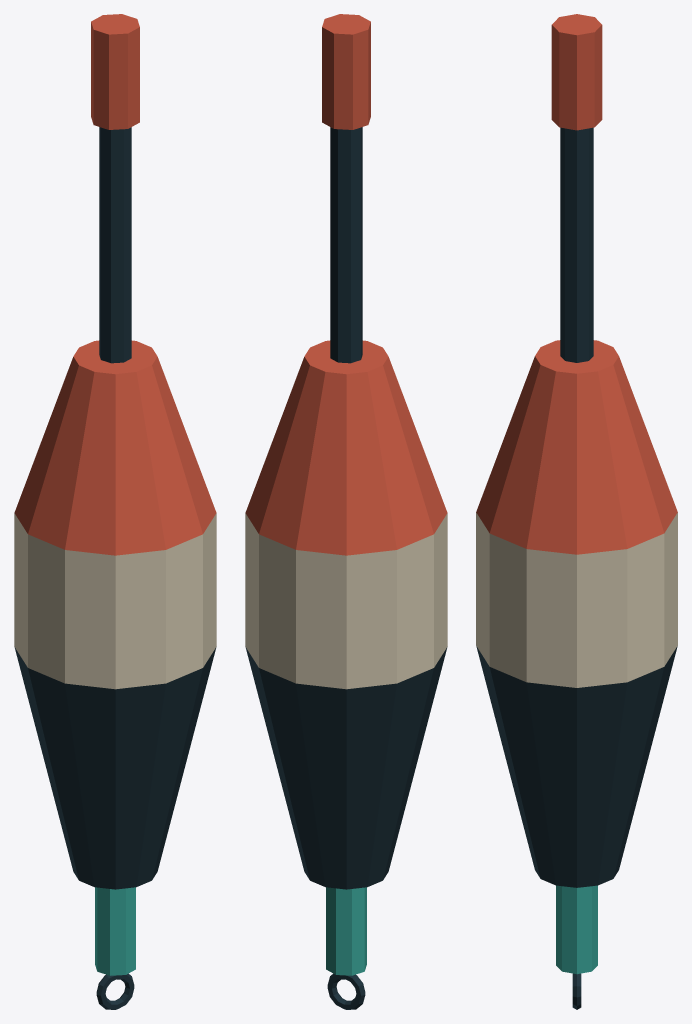
Rendered from fishing_float_v1.glb.
3 renders of one model, left to right at view 1: azimuth 30°, elevation 25°; view 2: azimuth 150°, elevation 25°; view 3: azimuth 270°, elevation 25°, orthographic.
Visible parts, largest first — view 1: fishing_float_v1_StaticMesh; view 2: fishing_float_v1_StaticMesh; view 3: fishing_float_v1_StaticMesh.
Part boxes in pixels (x1,y1,x2,y2): fishing_float_v1_StaticMesh: (14, 14, 216, 1009); fishing_float_v1_StaticMesh: (245, 14, 447, 1009); fishing_float_v1_StaticMesh: (476, 14, 677, 1009).
Bounding box in the file's own units: 0.048 × 0.2582 × 0.048.
